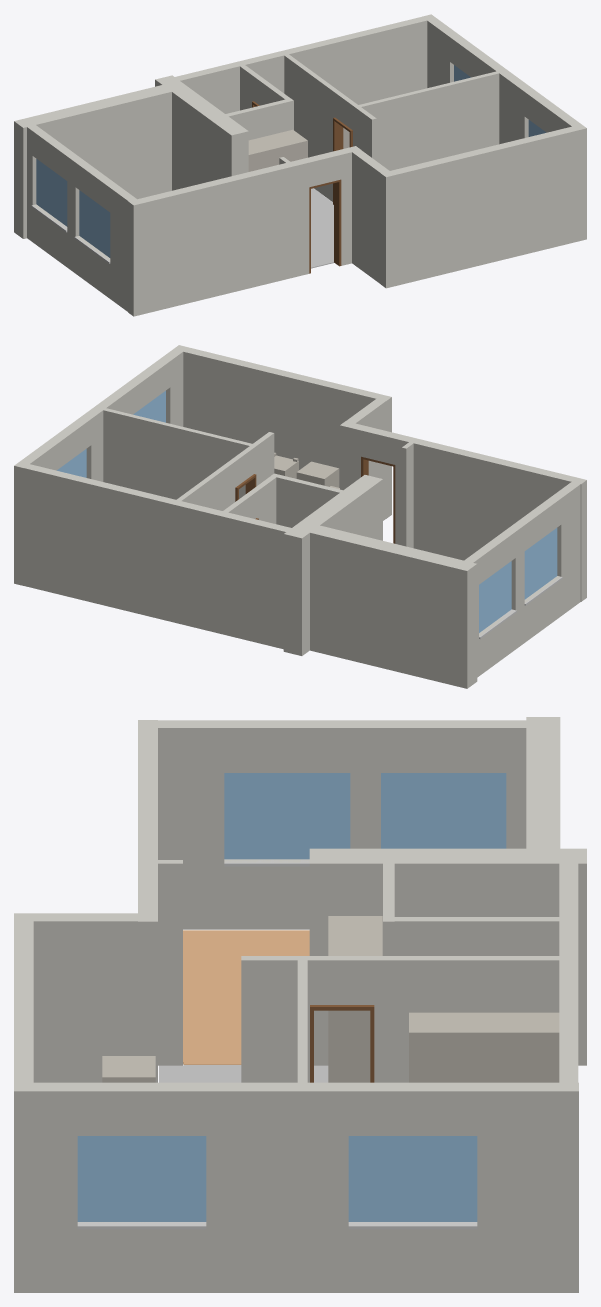
3 views of the same model, one above another, from view 1: azimuth 30°, elevation 25°; view 2: azimuth 150°, elevation 25°; view 3: azimuth 270°, elevation 25° (orthographic). The views are drawn at different scales.
Parts seen in each view (by area): view 1: walls, furniture_1_closet, floor_1_Entry, window_3, window_2, door_5, door_4; view 2: walls, window_2, window_3, furniture_5_appliance, window_1, window_0, door_5, furniture_9_sink; view 3: walls, window_0, window_1, furniture_0_closet, window_2, floor_2_Living_Room, window_3, furniture_1_closet, floor_1_Entry, furniture_3_appliance, door_4, sill_0 (+1 smaller).
Boxes of the visible parts, x1,y1,x2,y2 form: walls: (14,14,586,316); furniture_1_closet: (248,129,307,171); floor_1_Entry: (311,188,334,268); window_3: (36,159,67,226); window_2: (79,190,110,257); door_5: (309,179,341,273); door_4: (333,117,352,204); walls: (14,345,586,688); window_2: (524,528,557,599); window_3: (479,561,511,632); furniture_5_appliance: (296,461,339,487); window_1: (133,391,165,422); window_0: (57,449,86,477); door_5: (361,456,395,543); furniture_9_sink: (274,455,298,478); walls: (14,717,586,1292); window_0: (348,1136,477,1221); window_1: (77,1136,206,1221); furniture_0_closet: (409,1012,559,1082); window_2: (224,773,350,859); floor_2_Living_Room: (183,930,309,1064); window_3: (381,773,506,848); furniture_1_closet: (328,916,382,1082); floor_1_Entry: (159,1065,328,1082); furniture_3_appliance: (102,1056,155,1082); door_4: (310,1005,374,1082); sill_0: (348,1222,477,1229).
Bounding box in the file's own units: 10.75 × 2.72 × 6.95.
